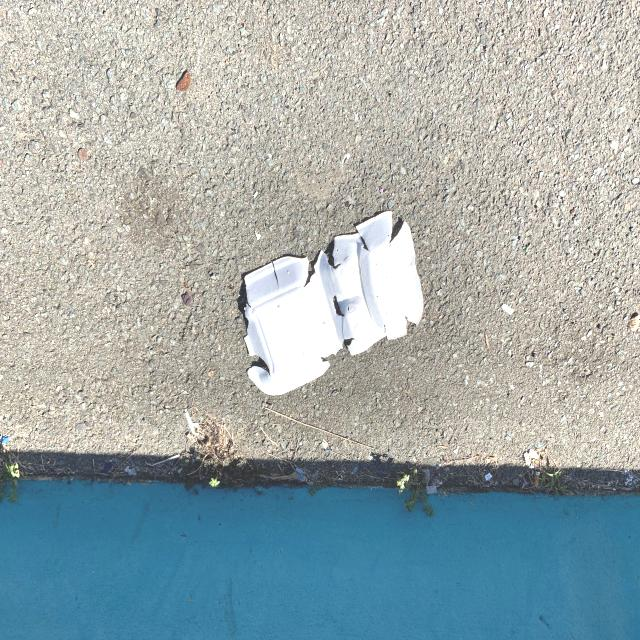Cigarette: (534, 471, 540, 488)
Foam food container: (244, 211, 424, 395)
Other plastic bottle: (146, 454, 179, 466), (185, 411, 199, 435), (501, 303, 513, 316)
Unlabeled litter: (297, 467, 304, 481), (426, 486, 437, 494), (0, 436, 10, 444)
